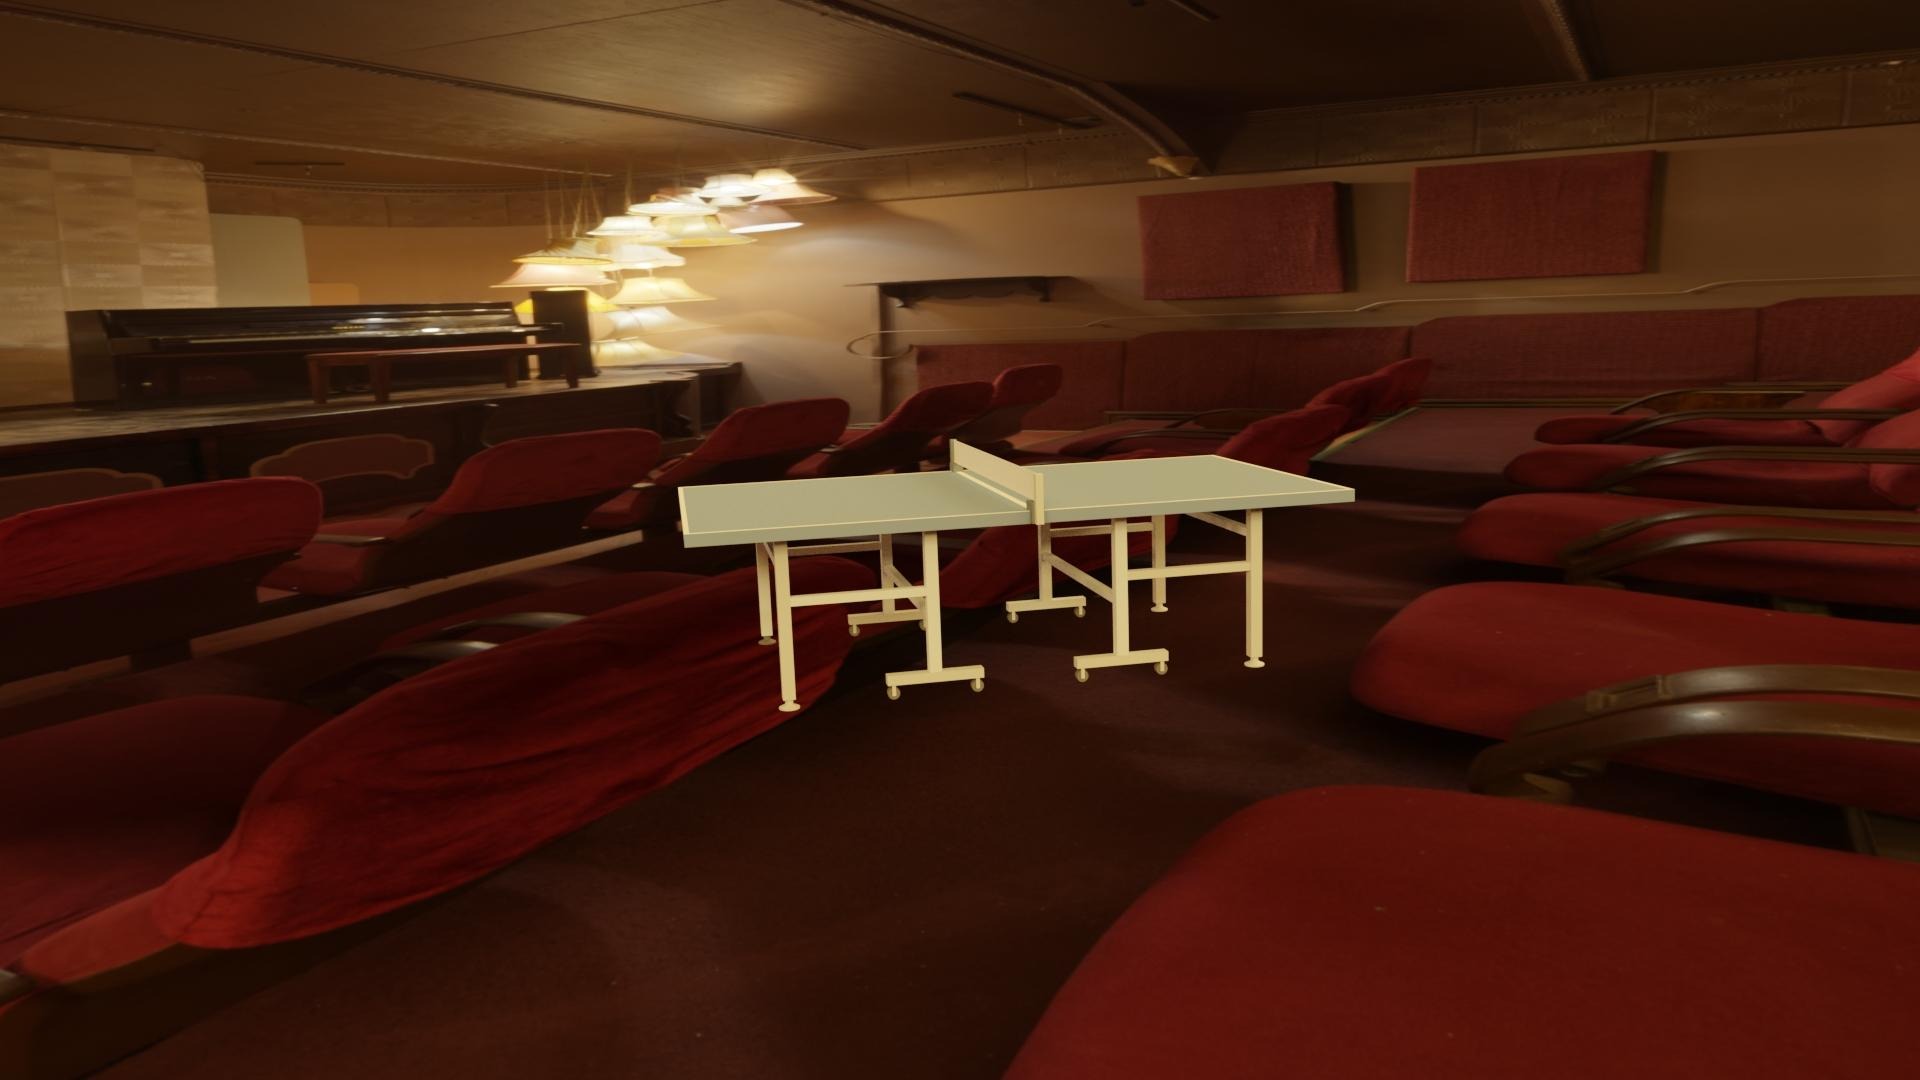table: (683, 456, 1348, 533)
